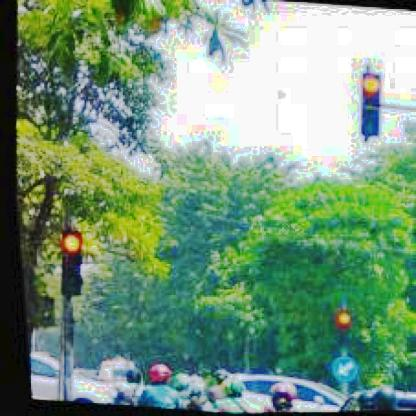Traffic Light -Red-: (52, 231, 84, 297), (353, 74, 382, 139)
